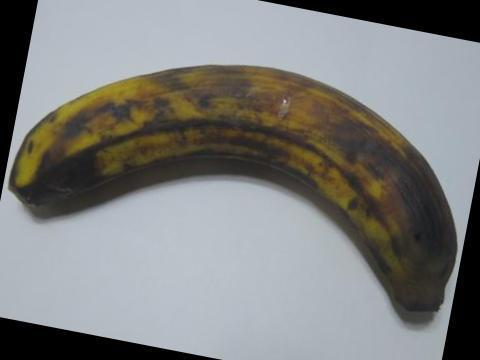overripe: (9, 58, 473, 319)
